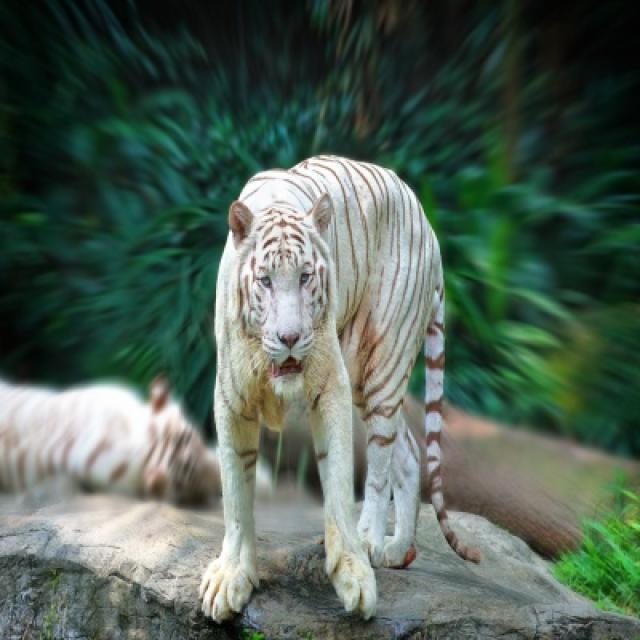Tiger: (200, 155, 480, 619)
